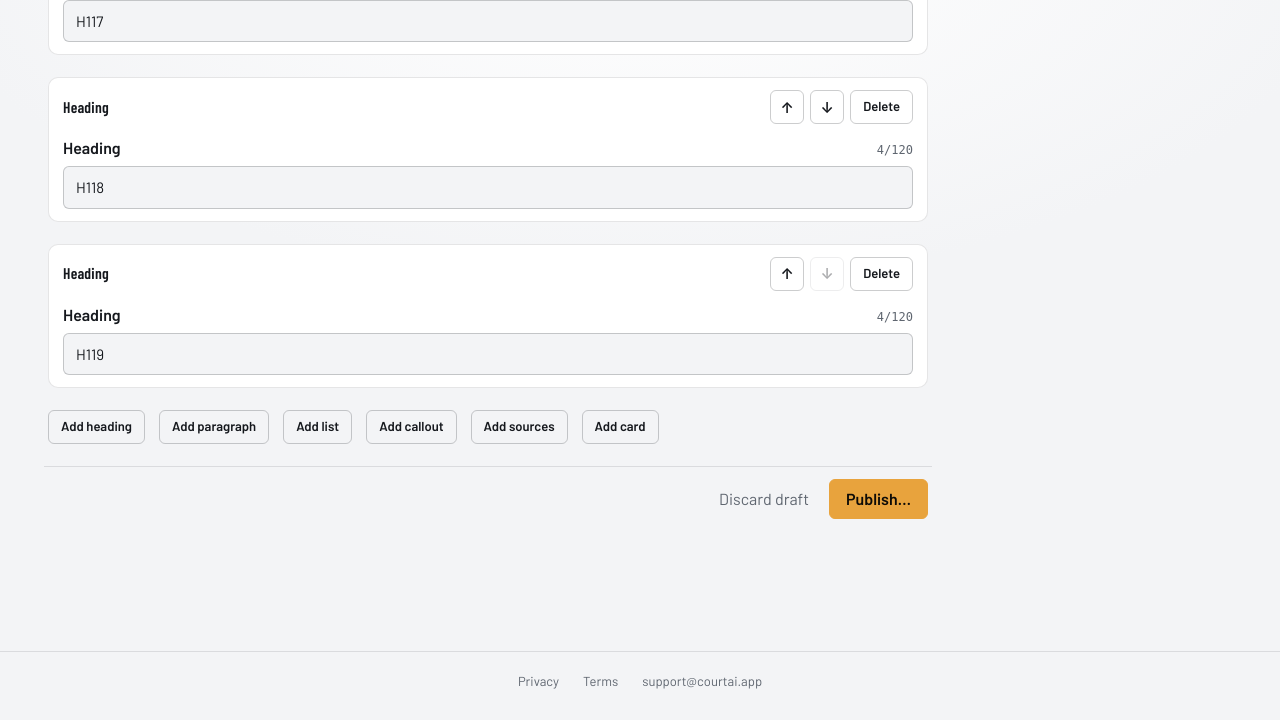
a report holds at most 120 blocks
The width and height of the screenshot is (1280, 720).
(page scrolled)
What coordinates should you click on to do the following:
click the button "Add heading"
I would click on:
 (96, 427)
Its box is [48, 410, 145, 444].
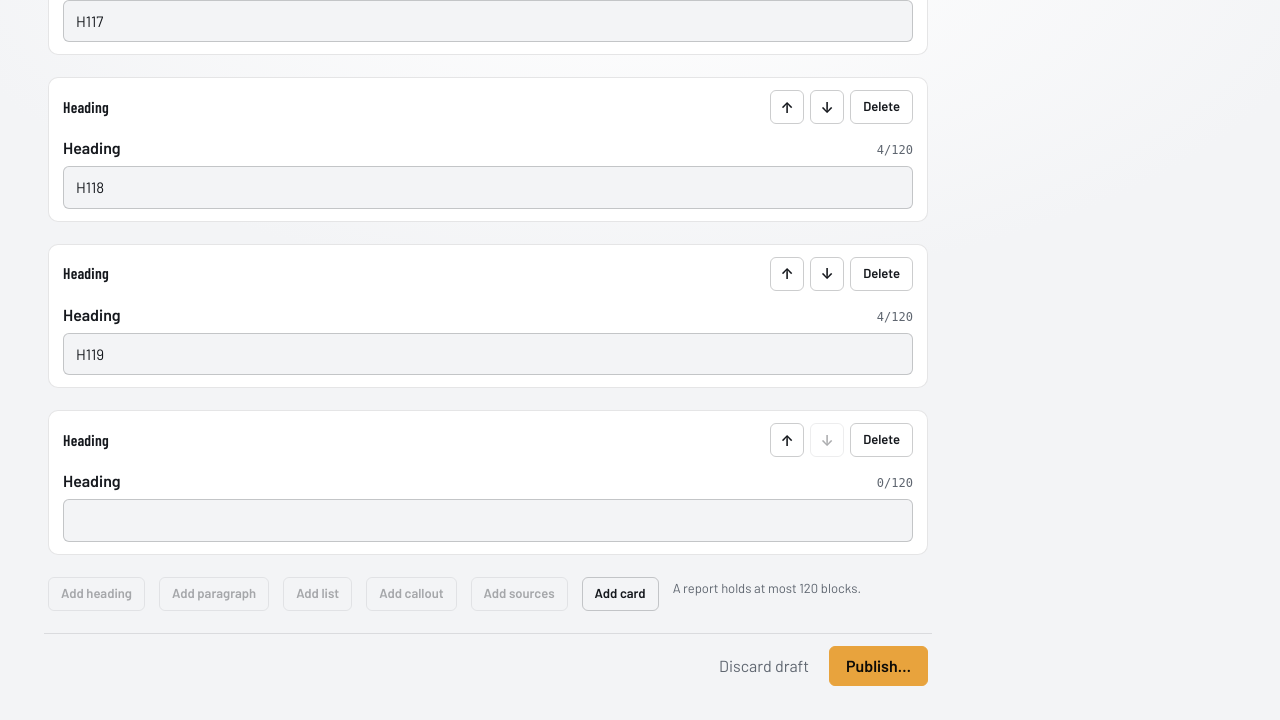
Expected: the button "Add paragraph" is disabled, [159, 576, 269, 610]
Expected: the text "A report holds at most 120 blocks." is shown, [673, 579, 861, 598]
